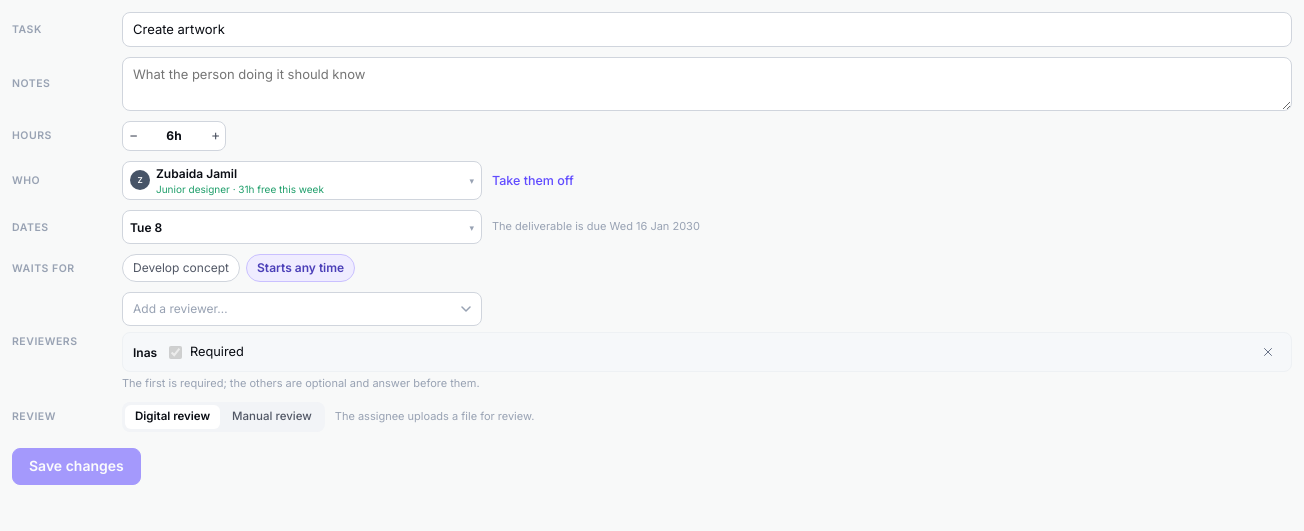
it: TaskEditorForm › says a request in place when the days went to another team
Click the button with test id "te-more" at x=215, y=136, box x1=205 y1=124 x2=225 y2=147
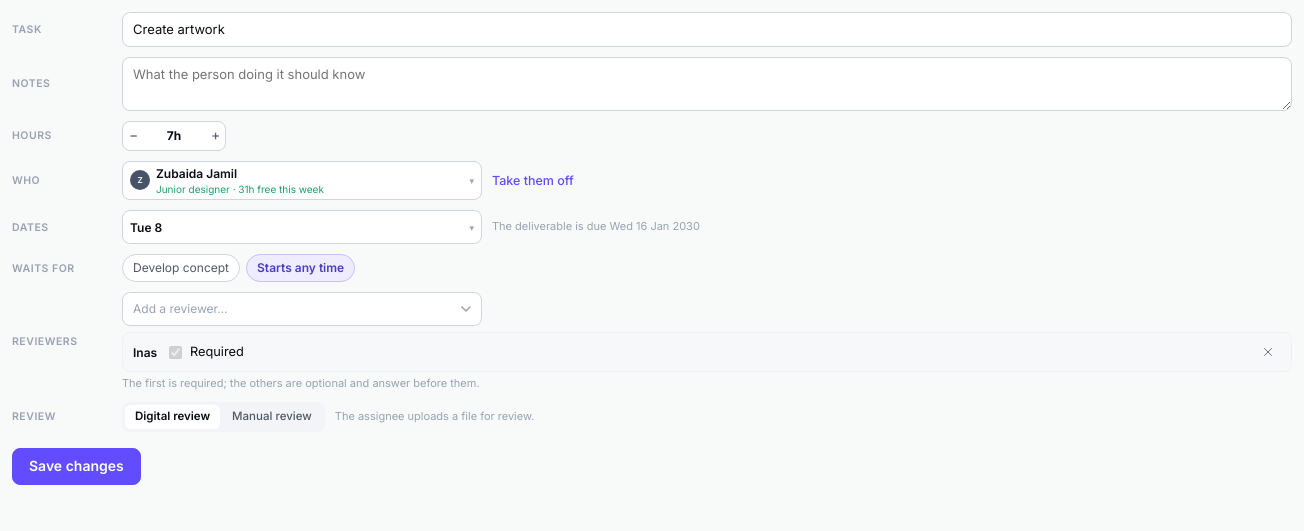
Click the button with test id "te-save" at x=76, y=466, box x1=12 y1=448 x2=141 y2=485
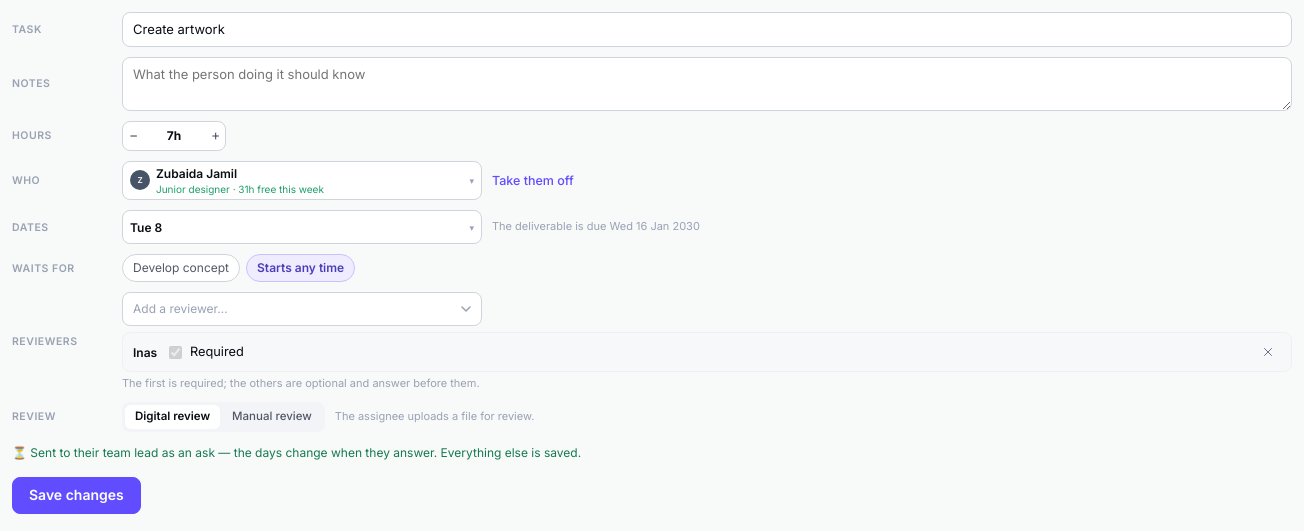
expect the message with test id "te-note" shows "Sent to their team lead as an ask": met, box x1=12 y1=445 x2=581 y2=460
